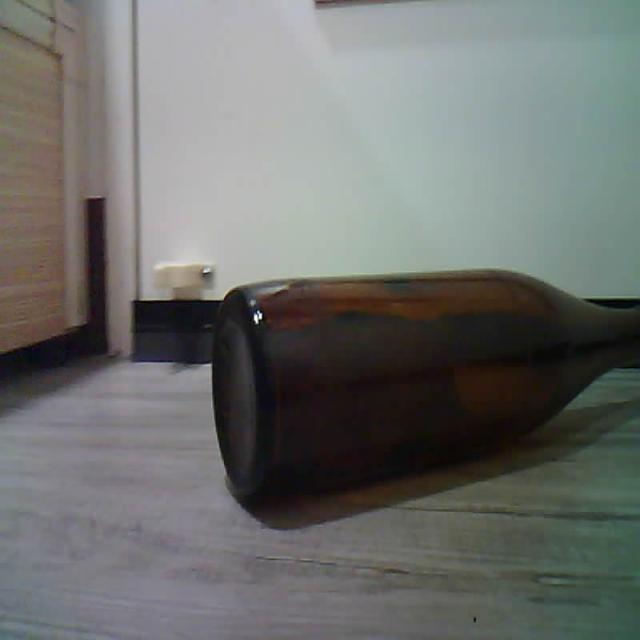bottle: (212, 270, 639, 501)
